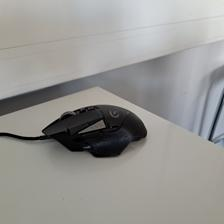mouse: (41, 103, 148, 158)
